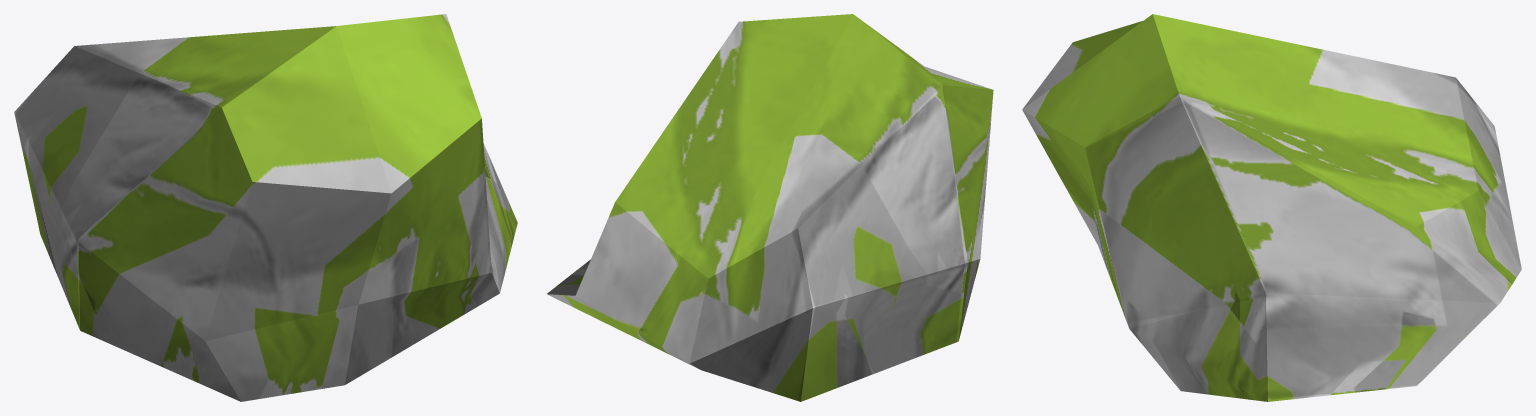
File: MossyRock4.FBX
The picture shows the model from 3 angles, left to right: view 1: azimuth 30°, elevation 25°; view 2: azimuth 150°, elevation 25°; view 3: azimuth 270°, elevation 25°; orthographic projection. The views are drawn at different scales.
Visible parts, largest first — view 1: Box001; view 2: Box001; view 3: Box001.
Part boxes in pixels (x1,y1,x2,y2): Box001: (14,14,517,401); Box001: (547,14,993,401); Box001: (1022,14,1521,401).
Size of the model in its own units: 75.16 by 58.47 by 79.75.
1 material, 1 textured.
